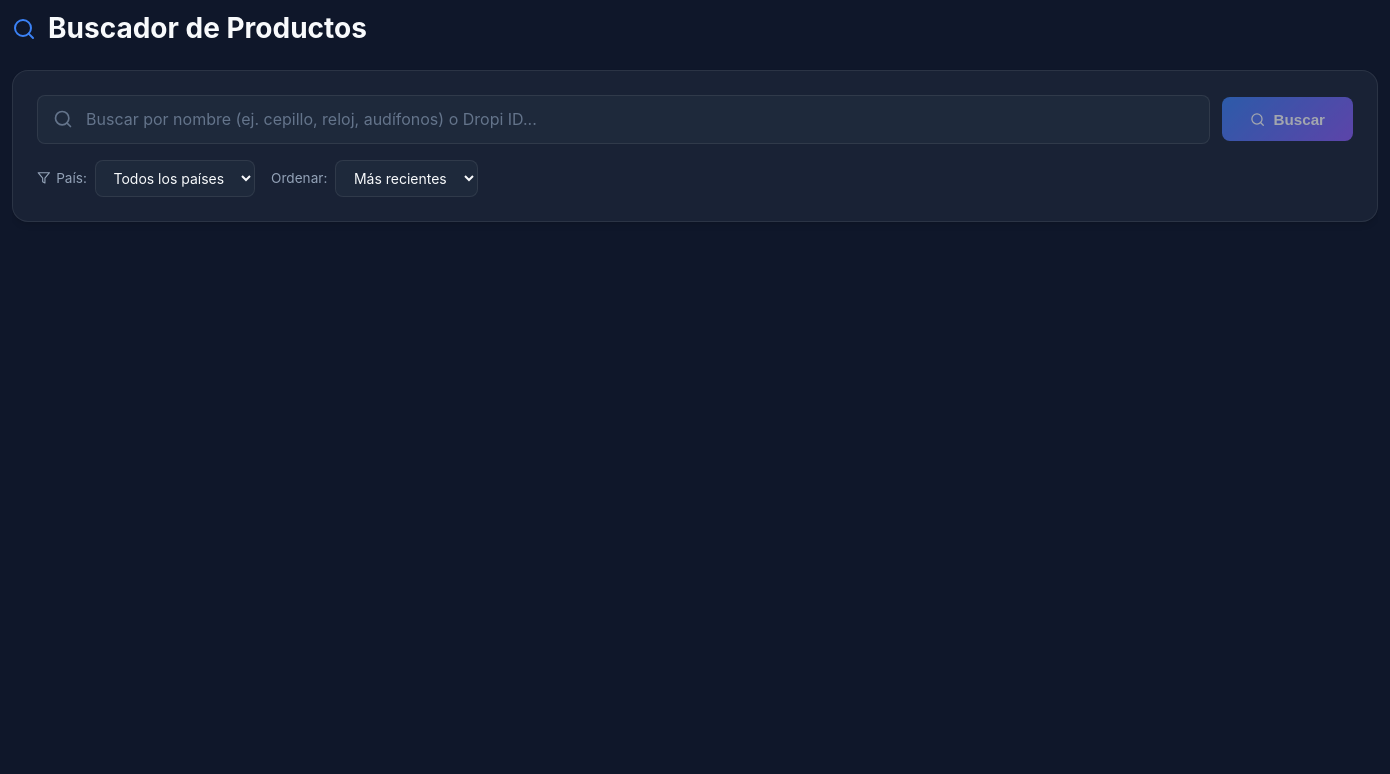
Test: ProductSearch Component (MSW Integration) › permite limpiar el input y cerrar el panel de resultados
Type "reloj" into the search field named "Término de búsqueda".
click(624, 119); type("reloj")  # box 37,95 -> 1210,144
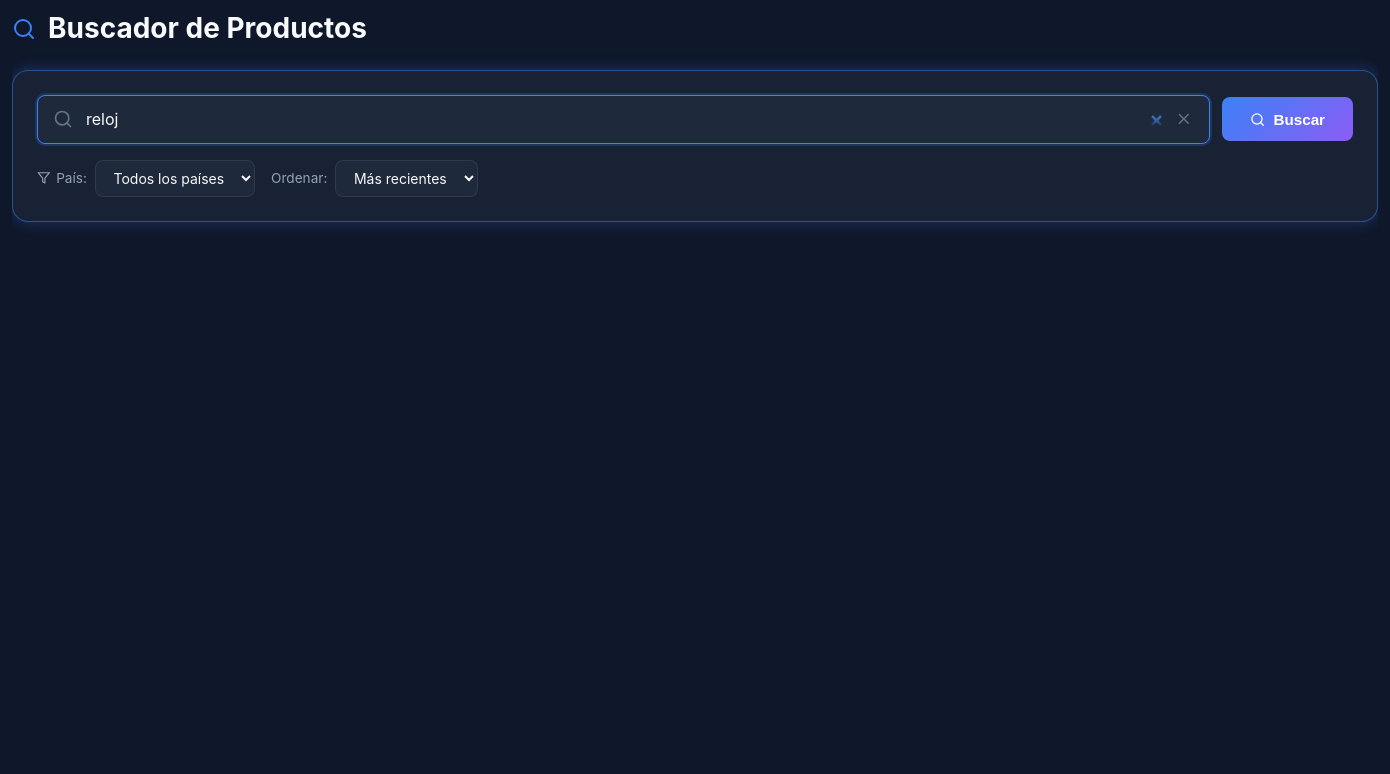
Click the button "Buscar".
click(1288, 119)  # box 1222,97 -> 1353,141
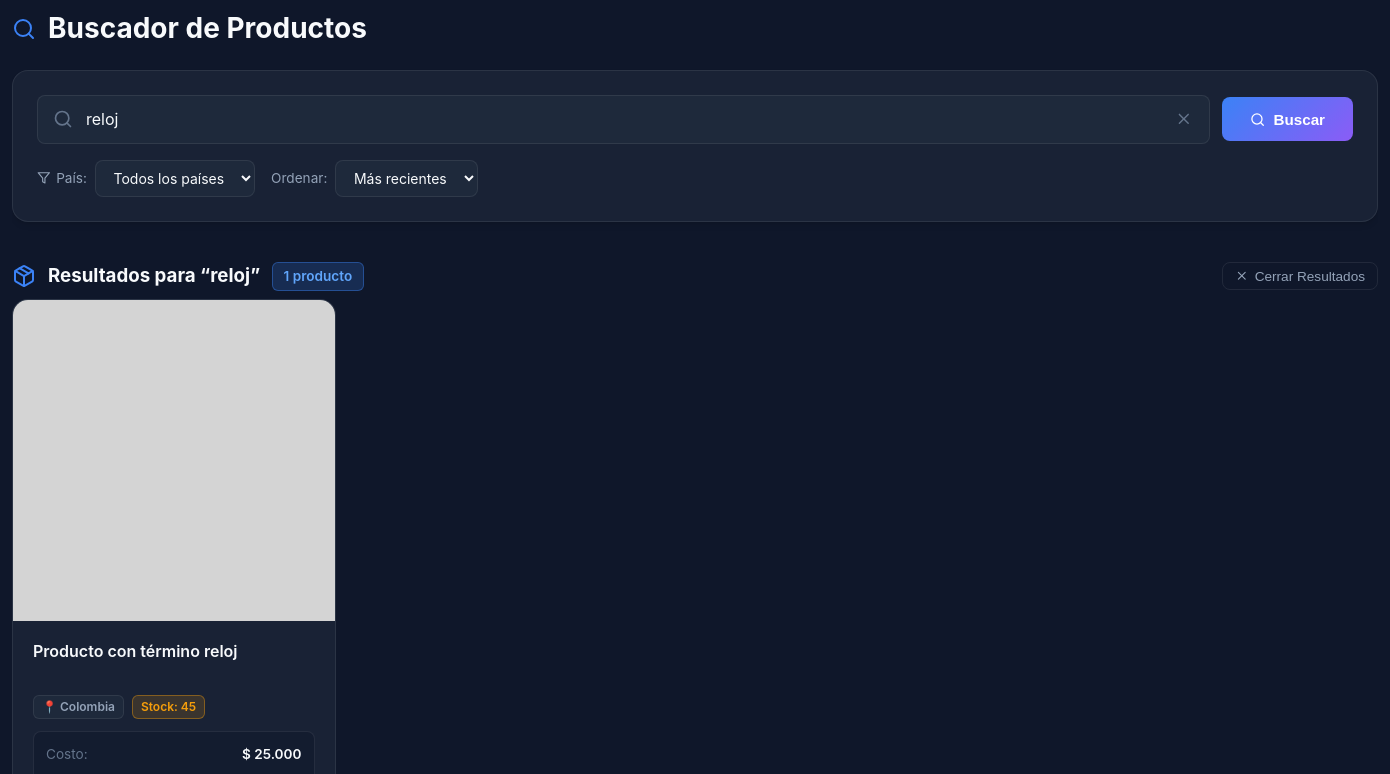
Check: the heading "Resultados para “reloj”" is shown, box 48,265 -> 260,287
Botón cerrar resultados
Click the button "Cerrar Resultados".
click(1300, 276)  # box 1222,262 -> 1378,290
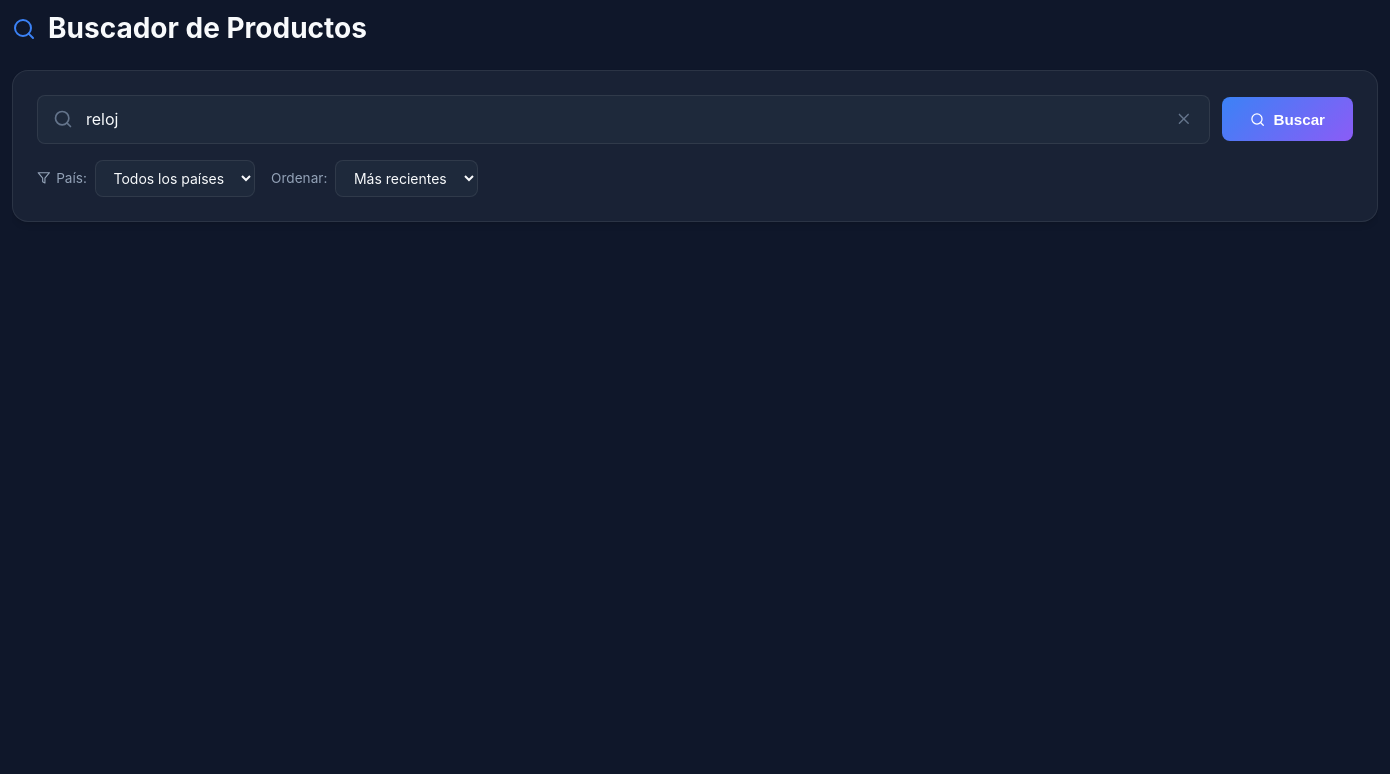
Check: the heading "Resultados para “reloj”" is gone
Botón limpiar input
Click the button named "Limpiar texto".
click(1184, 119)  # box 1171,106 -> 1197,132
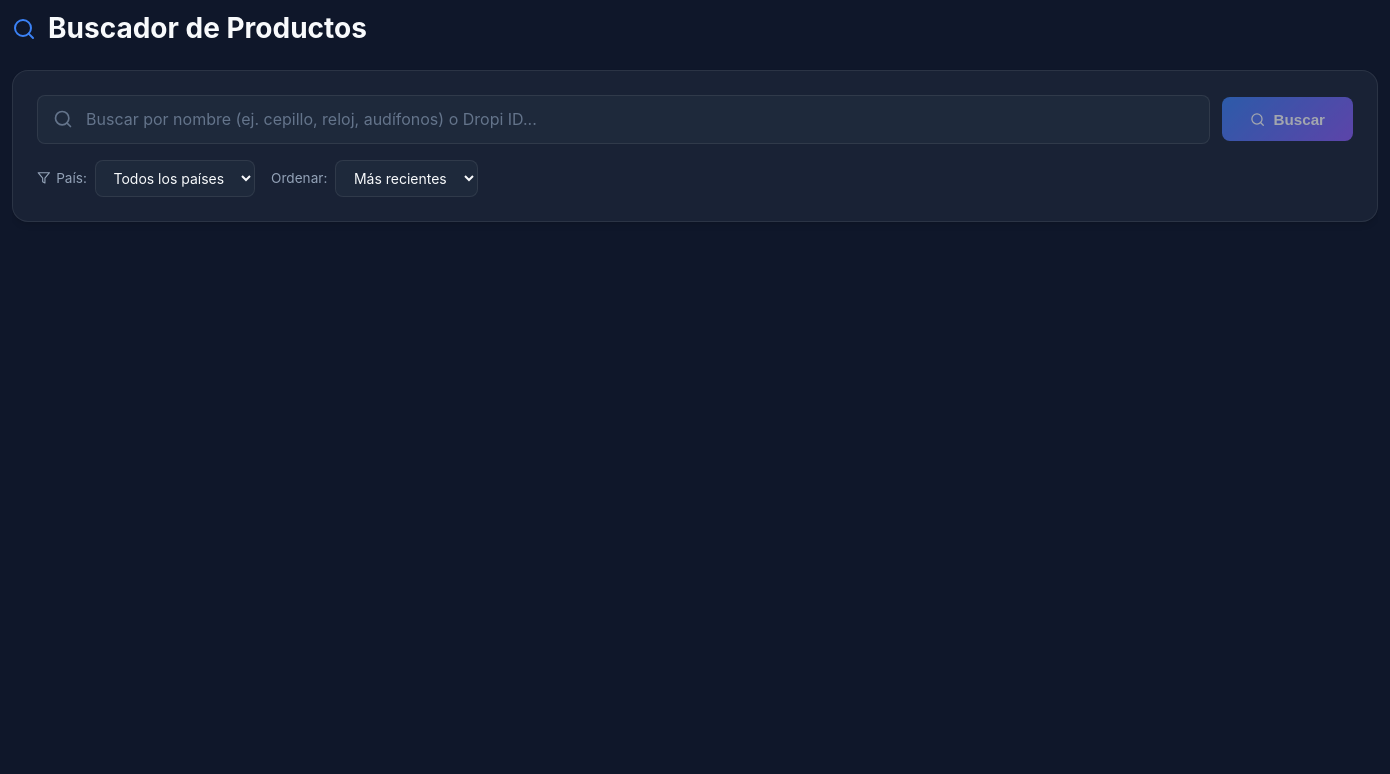
Check: the search field named "Término de búsqueda" is empty, box 37,95 -> 1210,144
